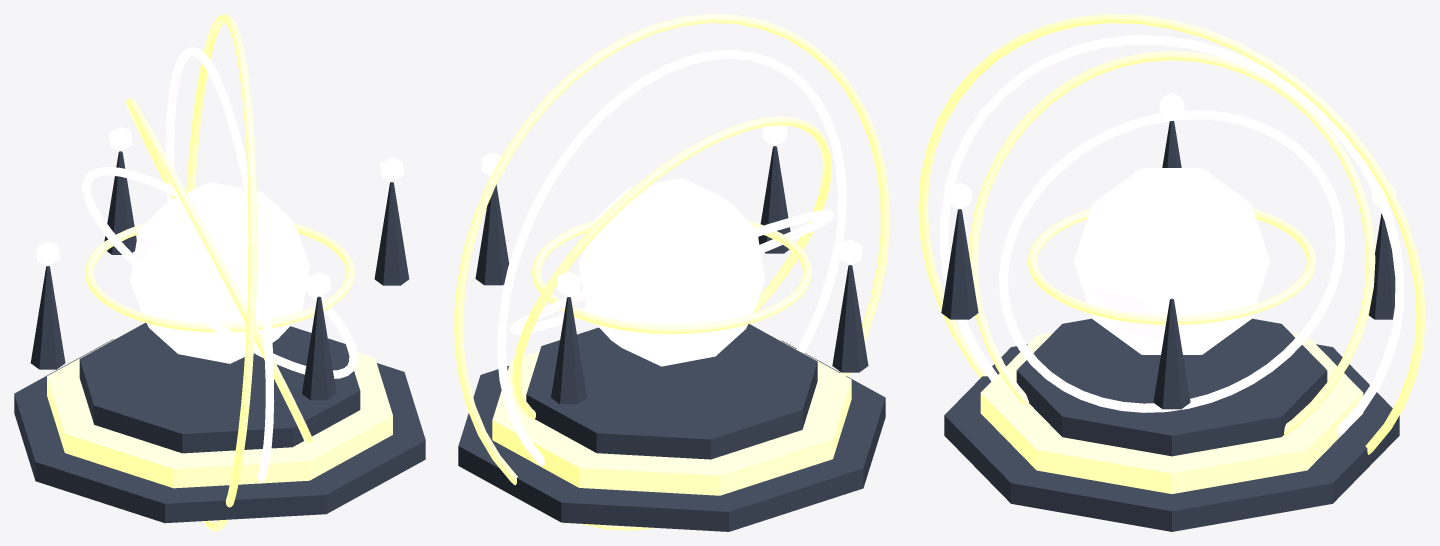
File: gpu-blender-v17.glb
The picture shows the model from 3 angles, left to right: view 1: azimuth 30°, elevation 25°; view 2: azimuth 150°, elevation 25°; view 3: azimuth 270°, elevation 25°; orthographic projection. The views are drawn at different scales.
Parts seen in each view (by area): view 1: Cylinder.002, SovereignCore_etsy-connector, Cylinder, Cylinder.001, Torus.004, Torus.003, Torus.001, Torus, Torus.002, Cone.003, Cone, Cone.002 (+1 smaller); view 2: Cylinder.002, SovereignCore_etsy-connector, Cylinder, Cylinder.001, Torus.004, Torus.003, Torus.002, Torus, Torus.001, Cone.001, Cone.002, Cone (+1 smaller); view 3: SovereignCore_etsy-connector, Cylinder.002, Cylinder, Cylinder.001, Torus.004, Torus.001, Torus.003, Torus.002, Torus, Cone, Cone.003, Cone.001 (+1 smaller).
Part boxes in pixels (left/top/right/bottom): Cylinder.002: left=79, top=323, right=360, bottom=453; SovereignCore_etsy-connector: left=130, top=182, right=309, bottom=363; Cylinder: left=14, top=339, right=425, bottom=523; Cylinder.001: left=47, top=330, right=392, bottom=488; Torus.004: left=186, top=14, right=257, bottom=531; Torus.003: left=165, top=47, right=274, bottom=483; Torus.001: left=82, top=166, right=357, bottom=378; Torus: left=85, top=223, right=354, bottom=332; Torus.002: left=126, top=98, right=312, bottom=442; Cone.003: left=302, top=296, right=336, bottom=400; Cone: left=374, top=182, right=409, bottom=285; Cone.002: left=30, top=266, right=65, bottom=369; Cylinder.002: left=526, top=324, right=817, bottom=459; SovereignCore_etsy-connector: left=578, top=178, right=765, bottom=366; Cylinder: left=458, top=340, right=885, bottom=531; Cylinder.001: left=492, top=331, right=851, bottom=495; Torus.004: left=454, top=14, right=889, bottom=530; Torus.003: left=497, top=49, right=846, bottom=466; Torus.002: left=512, top=116, right=831, bottom=419; Torus: left=531, top=220, right=812, bottom=333; Torus.001: left=510, top=209, right=833, bottom=334; Cone.001: left=551, top=297, right=586, bottom=404; Cone.002: left=832, top=265, right=868, bottom=372; Cone: left=475, top=184, right=509, bottom=285; SovereignCore_etsy-connector: left=1073, top=168, right=1270, bottom=354; Cylinder.002: left=1016, top=318, right=1327, bottom=456; Cylinder: left=944, top=344, right=1399, bottom=531; Cylinder.001: left=980, top=332, right=1363, bottom=493; Torus.004: left=918, top=14, right=1425, bottom=454; Torus.001: left=999, top=110, right=1344, bottom=412; Torus.003: left=939, top=35, right=1404, bottom=437; Torus.002: left=969, top=51, right=1375, bottom=435; Torus: left=1027, top=209, right=1316, bottom=324; Cone: left=1153, top=298, right=1190, bottom=409; Cone.003: left=941, top=209, right=978, bottom=319; Cone.001: left=1368, top=213, right=1395, bottom=319.
Size of the model in its own units: 4.41 by 5.33 by 4.9.
